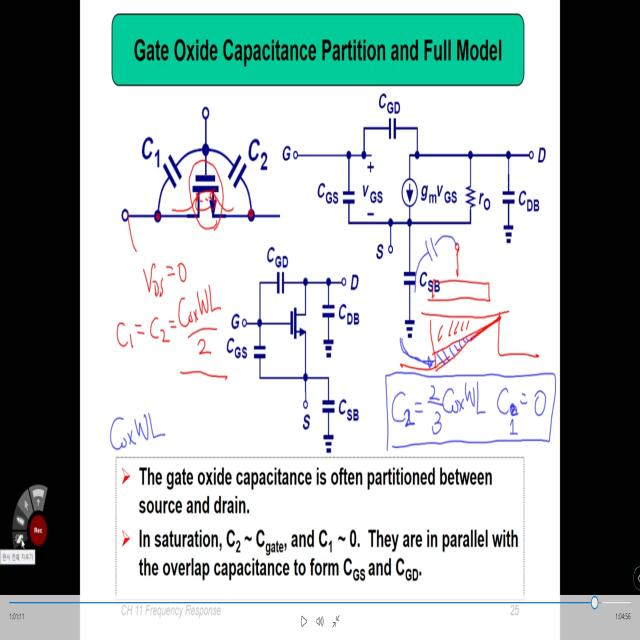panseo: (102, 236, 235, 401), (396, 230, 542, 380), (378, 361, 557, 462), (98, 409, 173, 456)
